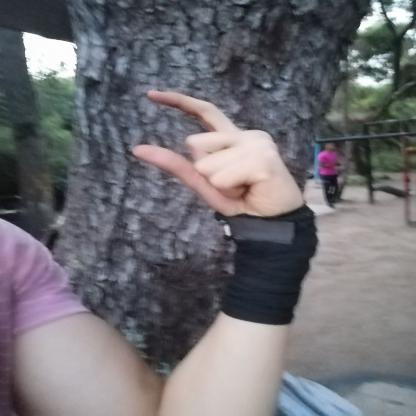DELL: (115, 81, 314, 227)
